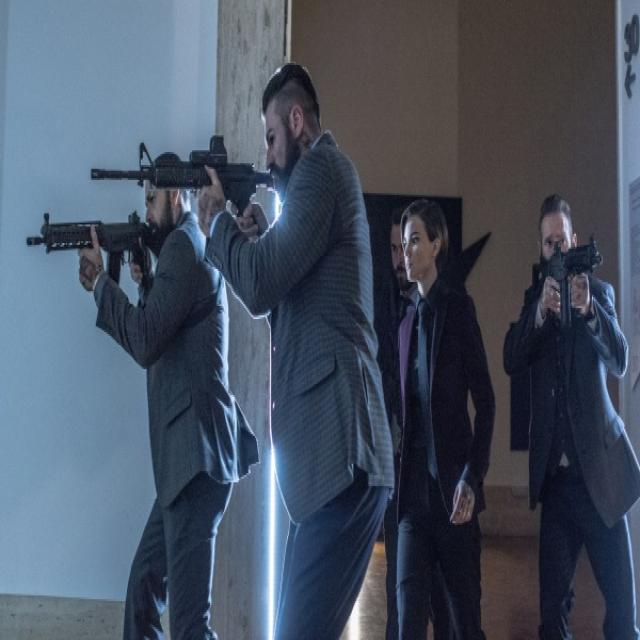rifle: (88, 133, 271, 218), (24, 200, 158, 287), (530, 235, 608, 330)
